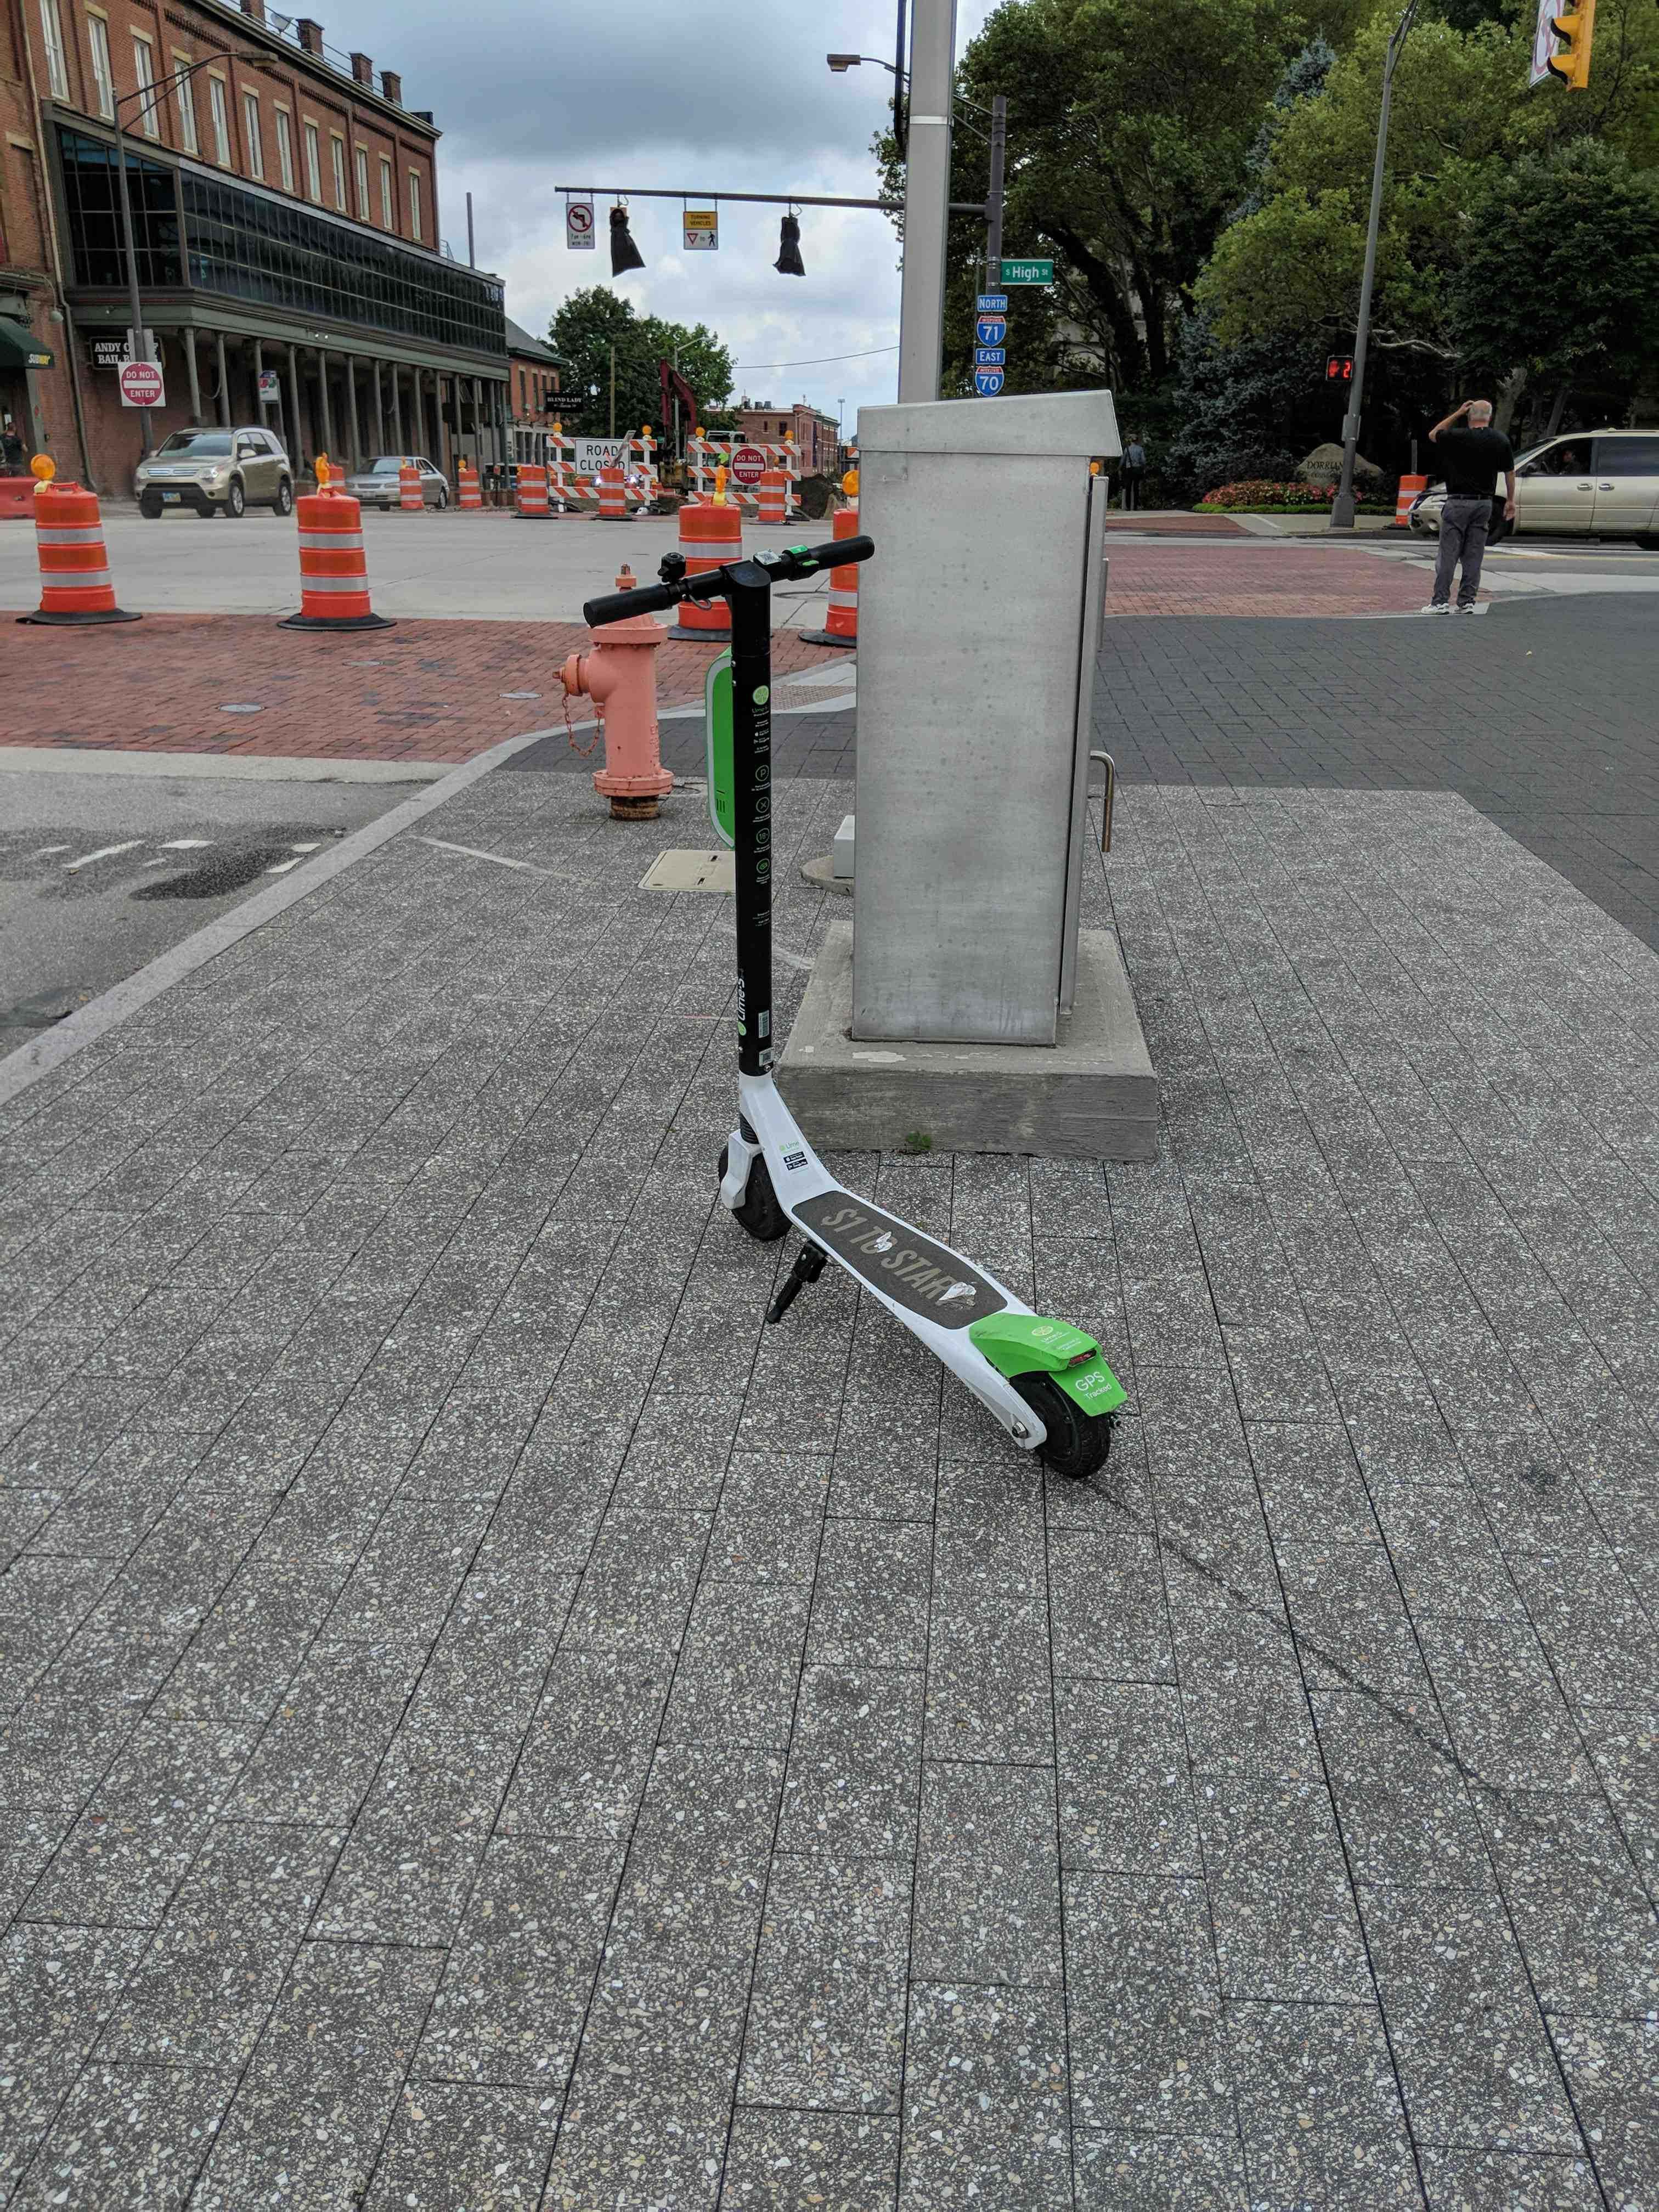scooter: (547, 500, 1162, 1517)
